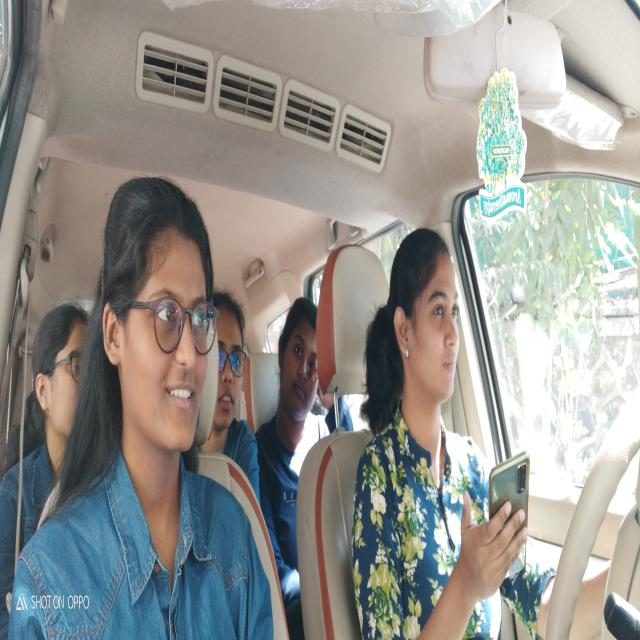mobile: (486, 456, 537, 586)
person: (98, 174, 216, 464), (387, 222, 465, 406), (27, 299, 94, 452), (277, 296, 323, 423), (214, 282, 251, 432)
